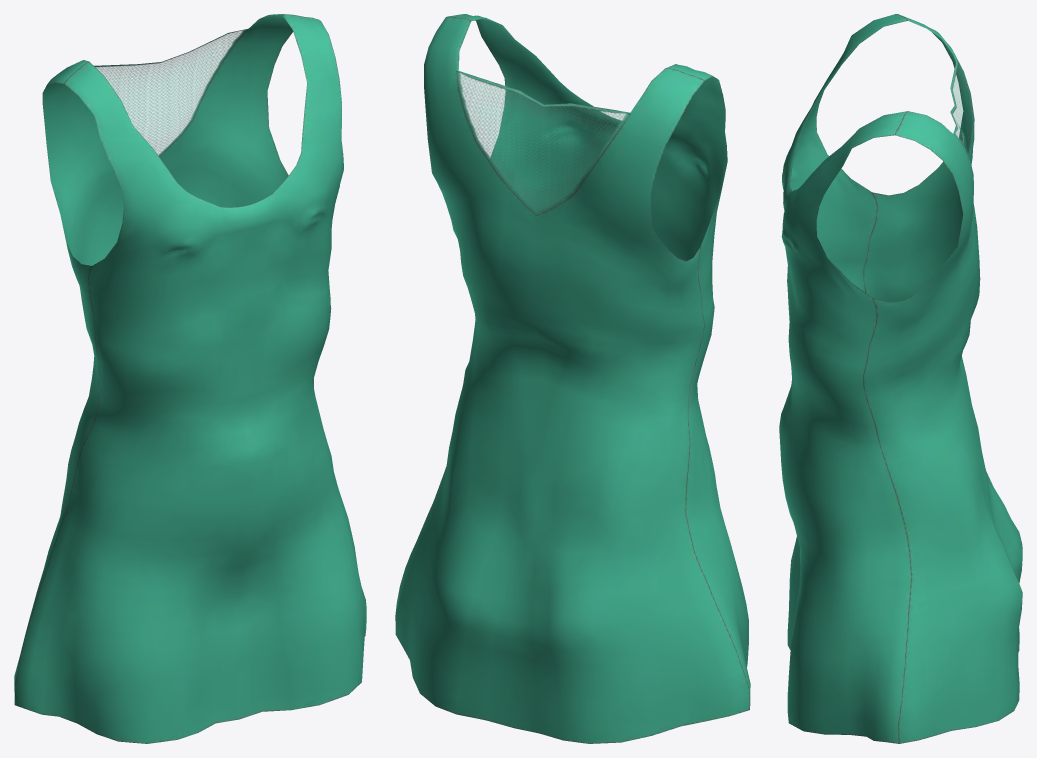
File: mindfront-f-dress-02.glb
The picture shows the model from 3 angles, left to right: view 1: azimuth 30°, elevation 25°; view 2: azimuth 150°, elevation 25°; view 3: azimuth 270°, elevation 25°; orthographic projection. The views are drawn at different scales.
Parts seen in each view (by area): view 1: Human.mindfront_f_dress_02; view 2: Human.mindfront_f_dress_02; view 3: Human.mindfront_f_dress_02.
Part boxes in pixels (x1,y1,x2,y2): Human.mindfront_f_dress_02: (14,14,366,743); Human.mindfront_f_dress_02: (395,14,750,743); Human.mindfront_f_dress_02: (779,14,1022,743).
Bounding box in the file's own units: 0.5132 × 0.8966 × 0.3211.
Materials: 1 (1 with a texture image).
